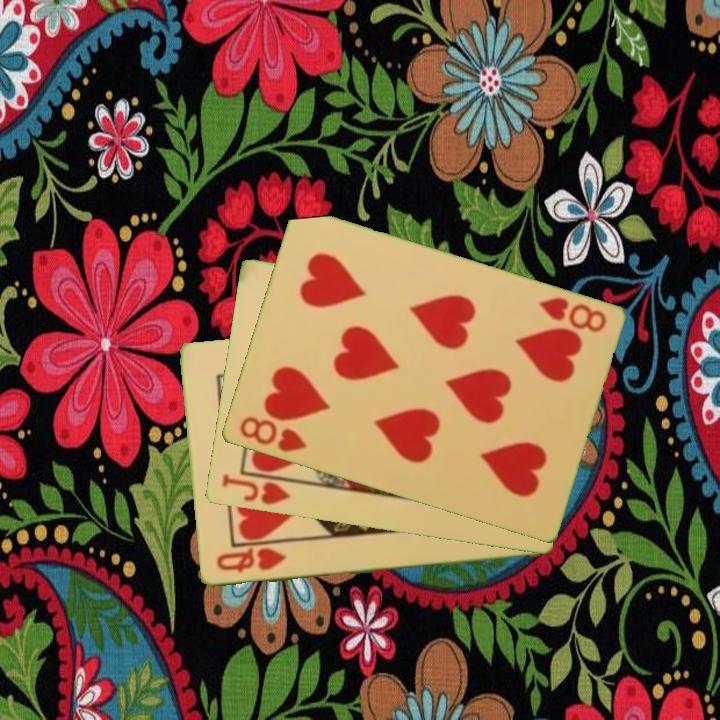8h: (235, 412, 310, 456), (534, 294, 609, 336)
Jh: (217, 471, 294, 508)
Qh: (212, 545, 289, 576)
